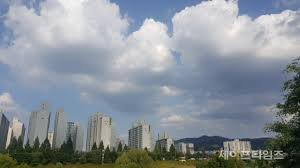sky: (3, 2, 297, 117)
vilage: (5, 108, 200, 167)
